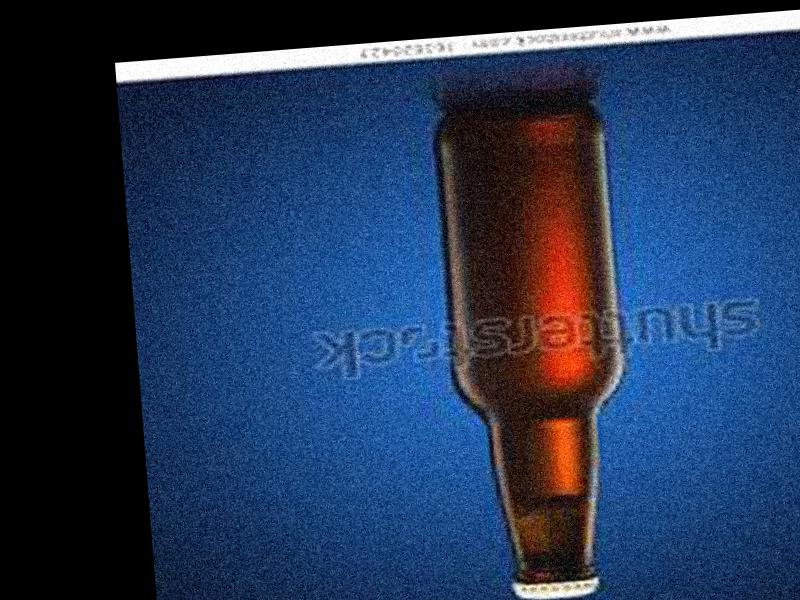Beer: (430, 100, 642, 600)
